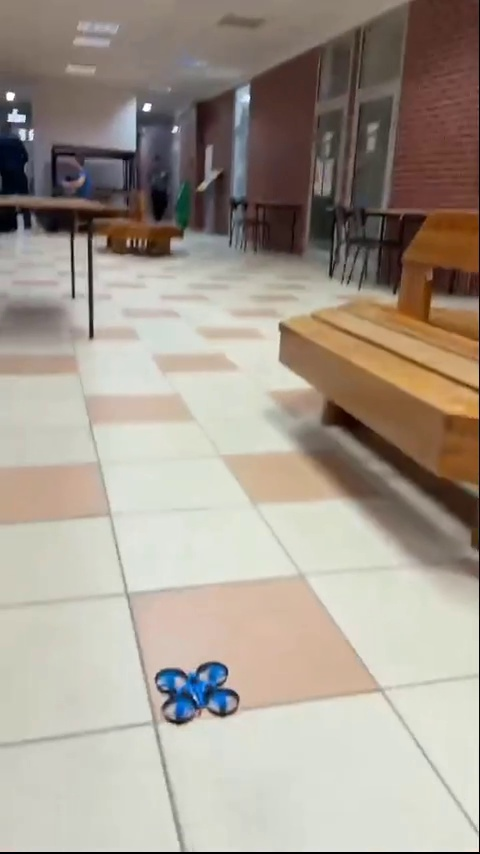drone: (152, 667, 239, 716)
no vest: (53, 153, 98, 211), (147, 148, 176, 223)
